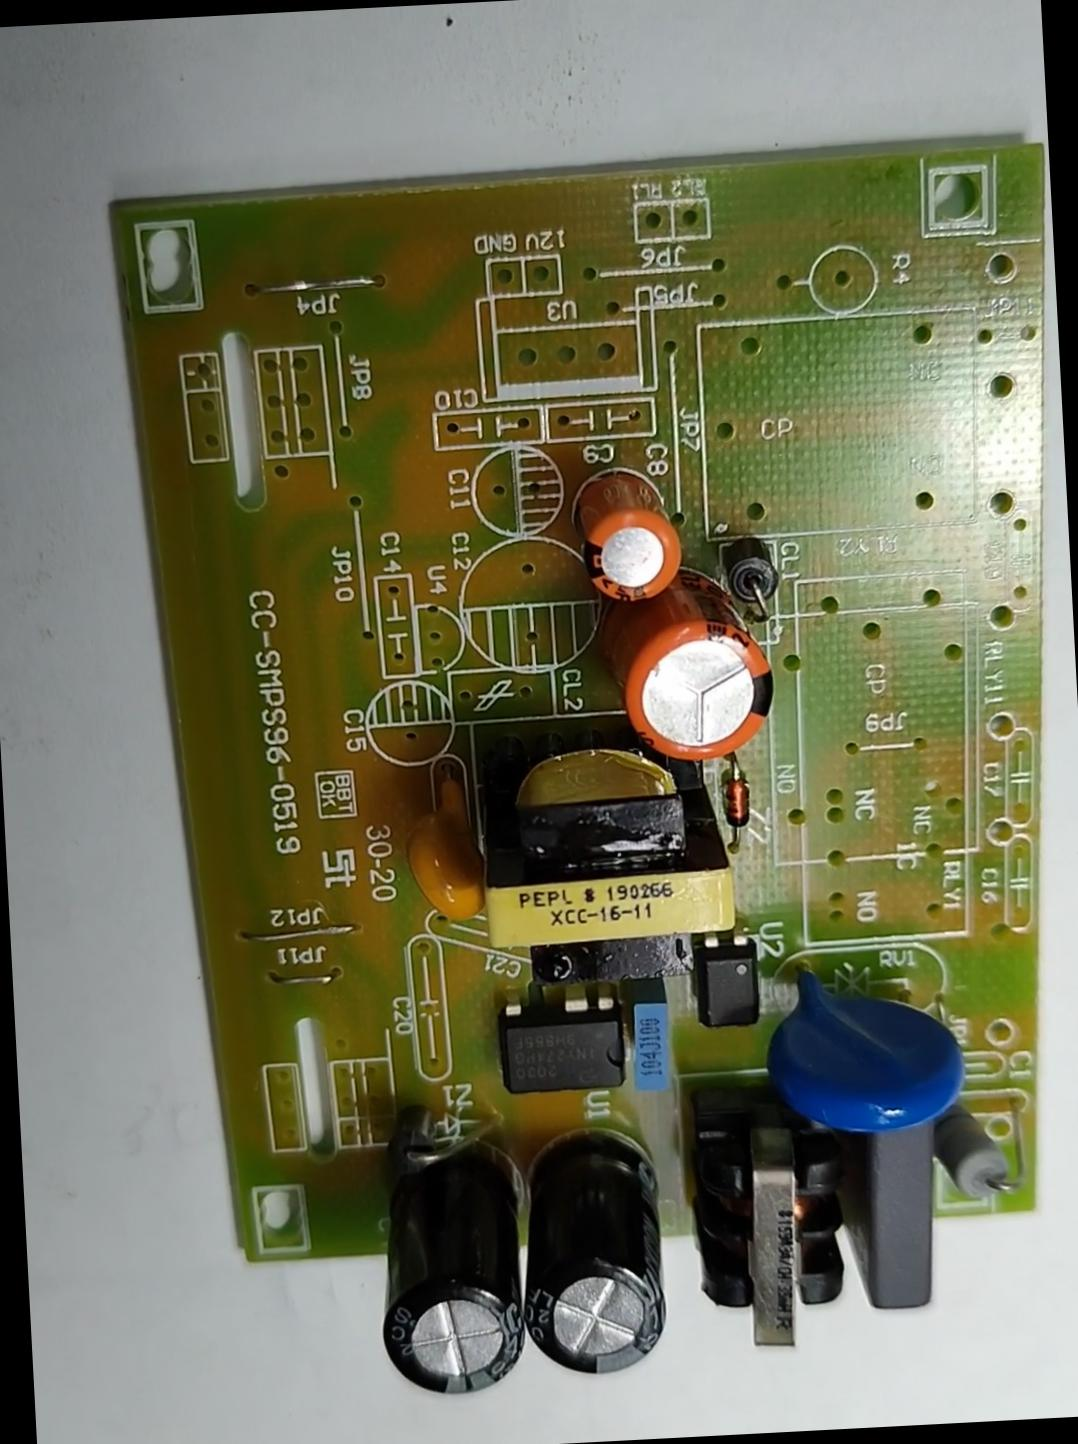Cap1: (622, 583, 779, 769)
Cap2: (581, 461, 684, 607)
Cap3: (516, 1121, 674, 1369)
Cap4: (378, 1131, 531, 1381)
MOSFET: (498, 990, 634, 1101)
Mov: (758, 962, 968, 1138)
Resistor: (942, 1112, 1020, 1212)
Transformer: (469, 724, 743, 986), (683, 1075, 857, 1358)
